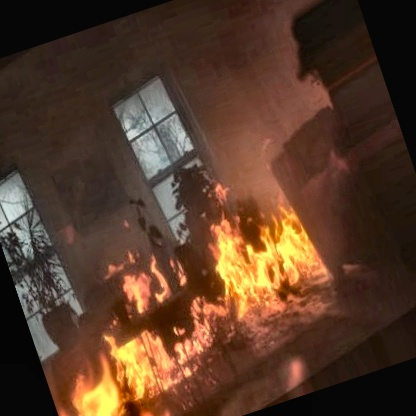fire: (0, 120, 376, 416)
